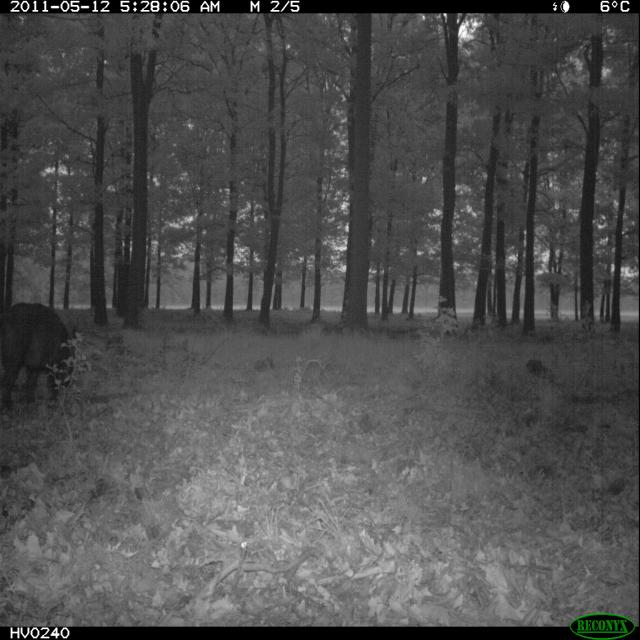boar: (0, 294, 95, 417)
